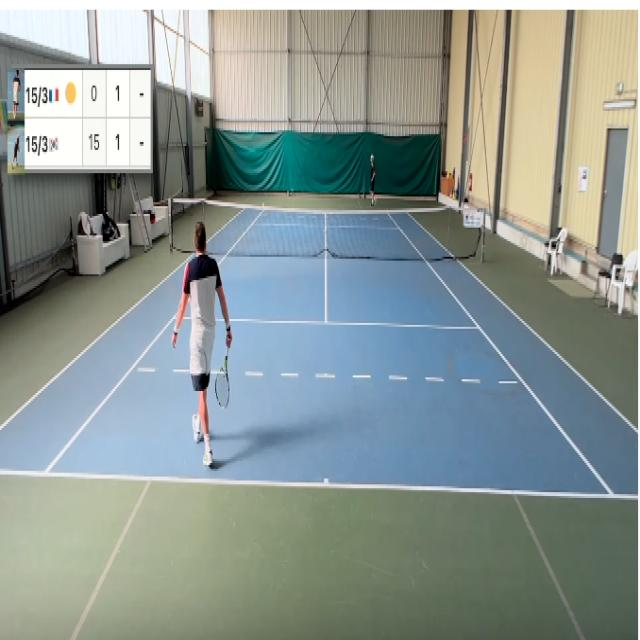ball: (262, 202, 264, 207)
